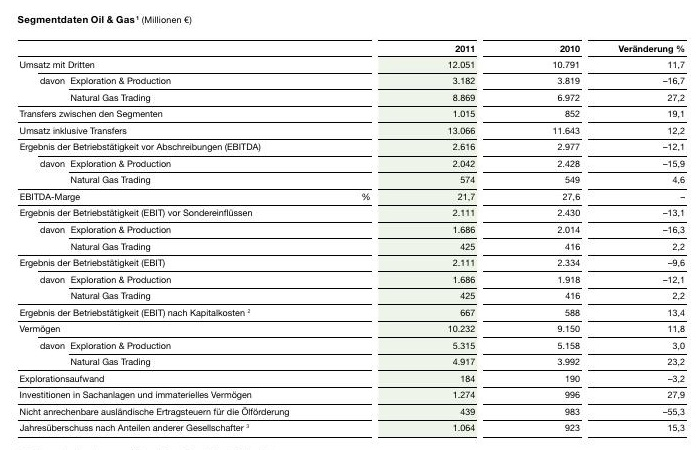table: (0, 0, 698, 450)
